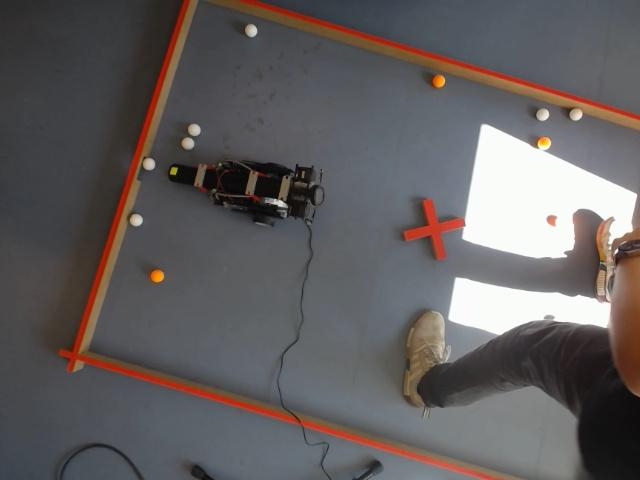orange: (150, 268, 165, 283), (432, 75, 446, 88), (538, 137, 552, 150)
robot: (169, 160, 325, 224)
robot-front: (168, 164, 193, 185)
white: (244, 24, 257, 38), (569, 108, 583, 121), (187, 123, 201, 136), (142, 157, 155, 171), (130, 214, 144, 227), (536, 108, 549, 121), (181, 138, 194, 150)
